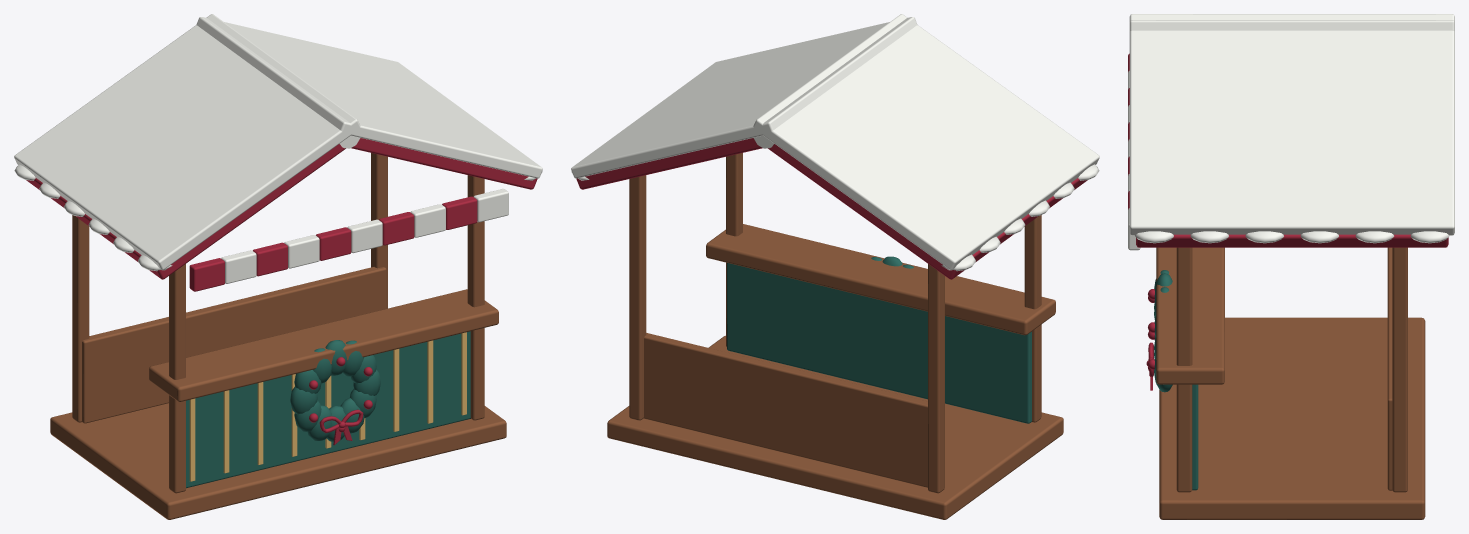
File: christmas-storybook-market-chalet-f8bf72ba.glb
3 views of the same model, side by side, from view 1: azimuth 30°, elevation 25°; view 2: azimuth 150°, elevation 25°; view 3: azimuth 270°, elevation 25° (orthographic). The views are drawn at different scales.
Parts seen in each view (by area): view 1: cream, oak, pine, berry, brass; view 2: oak, cream, pine, berry; view 3: cream, oak, berry, pine.
Boxes of the visible parts, x1,y1,x2,y2 form: cream: (14,14,542,283); oak: (50,153,506,519); pine: (186,331,470,488); berry: (26,138,537,445); brass: (189,332,466,481); oak: (607,153,1063,519); cream: (571,14,1099,271); pine: (727,256,1031,423); berry: (576,138,1087,279); cream: (1128,14,1454,250); oak: (1156,247,1425,519); berry: (1128,53,1448,390); pine: (1154,270,1198,490).
Size of the model in its own units: 3.29 by 2.9 by 2.09.
